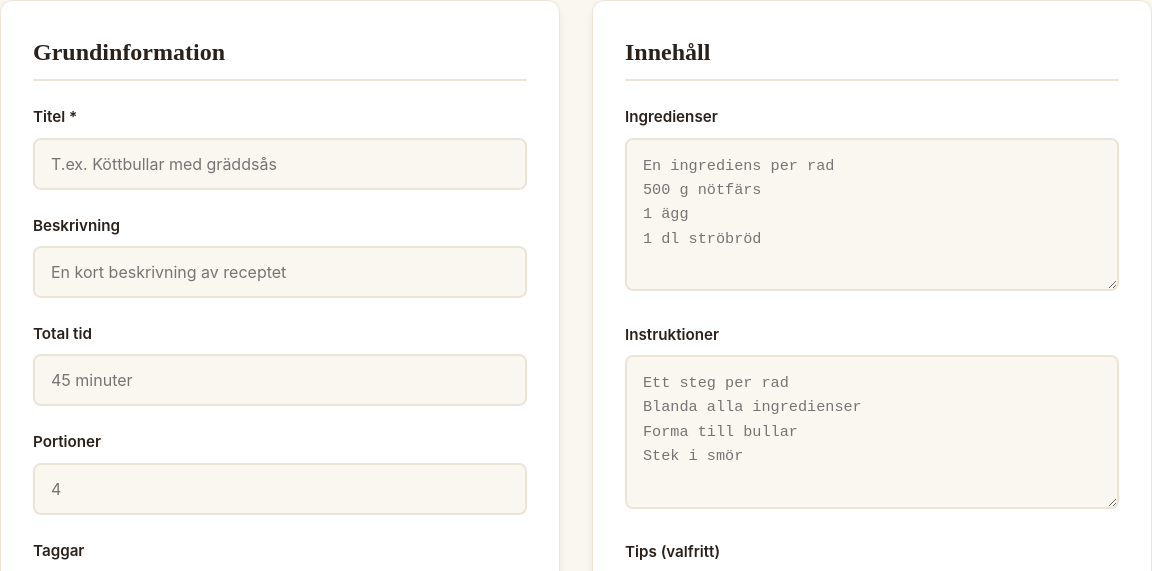
Test: RecipeCreator › should update filename suggestion when title is entered
This screenshot has width=1152, height=571.
Step 1. Type "My Test Recipe" into the field labelled "Titel *" → x=280, y=164, box [33,138,527,190]
(page scrolled)
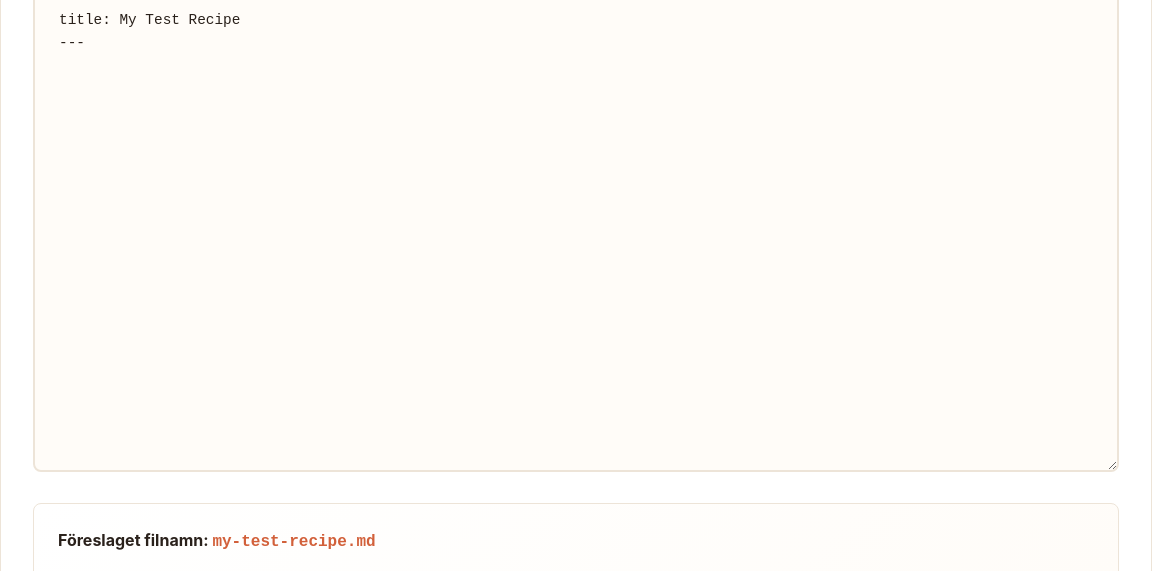
Expected: the text "my-test-recipe.md" is shown, [212,534,376,552]
